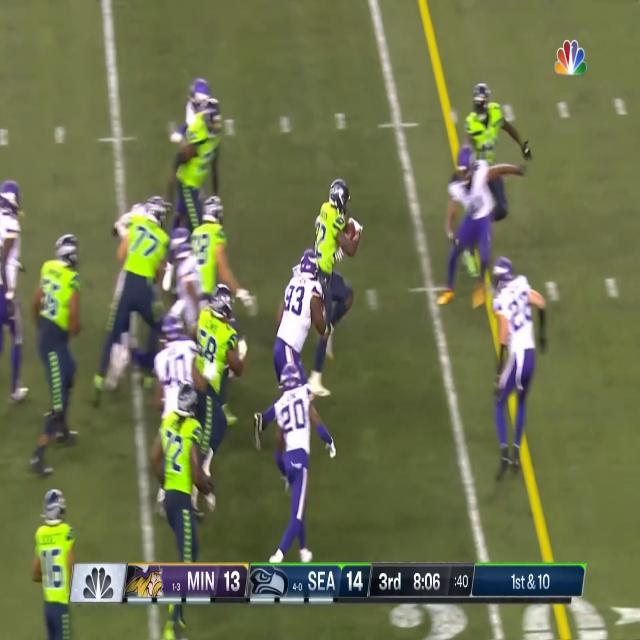football: (344, 219, 356, 241)
players: (298, 170, 360, 404), (29, 234, 88, 477), (437, 148, 525, 306), (461, 82, 532, 274), (269, 362, 336, 564), (487, 257, 547, 481), (102, 194, 166, 397), (189, 284, 247, 494), (153, 315, 204, 518), (158, 384, 212, 562), (273, 248, 324, 398), (0, 179, 33, 410), (167, 219, 223, 348), (175, 98, 224, 243), (32, 489, 75, 640), (173, 79, 211, 224), (198, 188, 242, 308)
